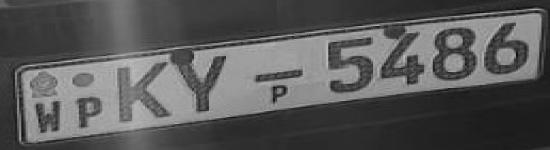-: (250, 66, 307, 84)
4: (378, 30, 428, 87)
5: (322, 35, 374, 95)
6: (481, 19, 531, 77)
8: (430, 25, 479, 82)
K: (112, 61, 172, 124)
P: (73, 95, 105, 130)
W: (33, 99, 68, 136)
Y: (173, 54, 231, 115)
